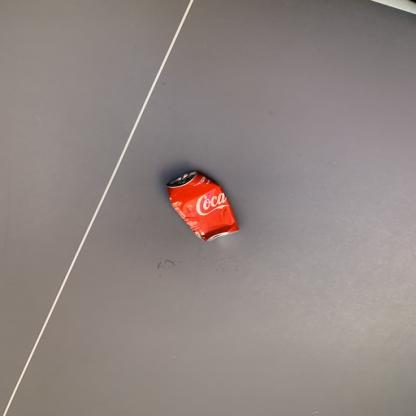trash: (166, 166, 245, 251)
